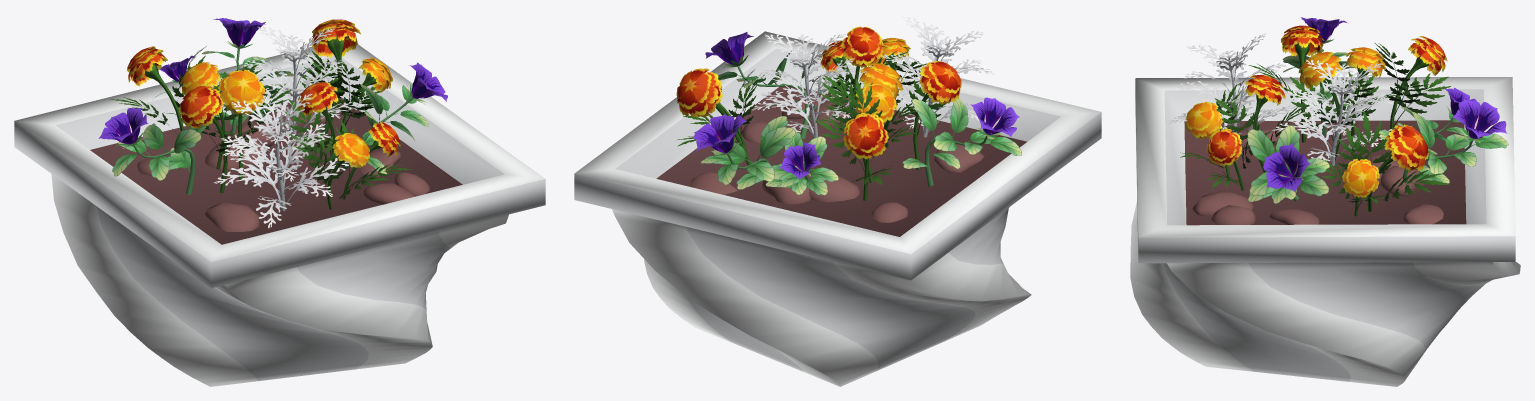
The model's file is flowerbed2.glb.
3 renders of one model, left to right at view 1: azimuth 30°, elevation 25°; view 2: azimuth 150°, elevation 25°; view 3: azimuth 270°, elevation 25°, orthographic. The views are drawn at different scales.
Visible parts, largest first — view 1: Flowerbed.001, Flowers(light); view 2: Flowerbed.001, Flowers(light); view 3: Flowerbed.001, Flowers(light).
Boxes of the visible parts, x1,y1,x2,y2 form: Flowerbed.001: [14, 44, 545, 386]; Flowers(light): [98, 18, 447, 228]; Flowerbed.001: [574, 31, 1101, 386]; Flowers(light): [676, 16, 1021, 200]; Flowerbed.001: [1130, 77, 1520, 386]; Flowers(light): [1167, 17, 1508, 216].
Size of what is drawn, in the model's own units: 5.79 by 4.47 by 5.69.
Materials: 2 (2 with a texture image).
